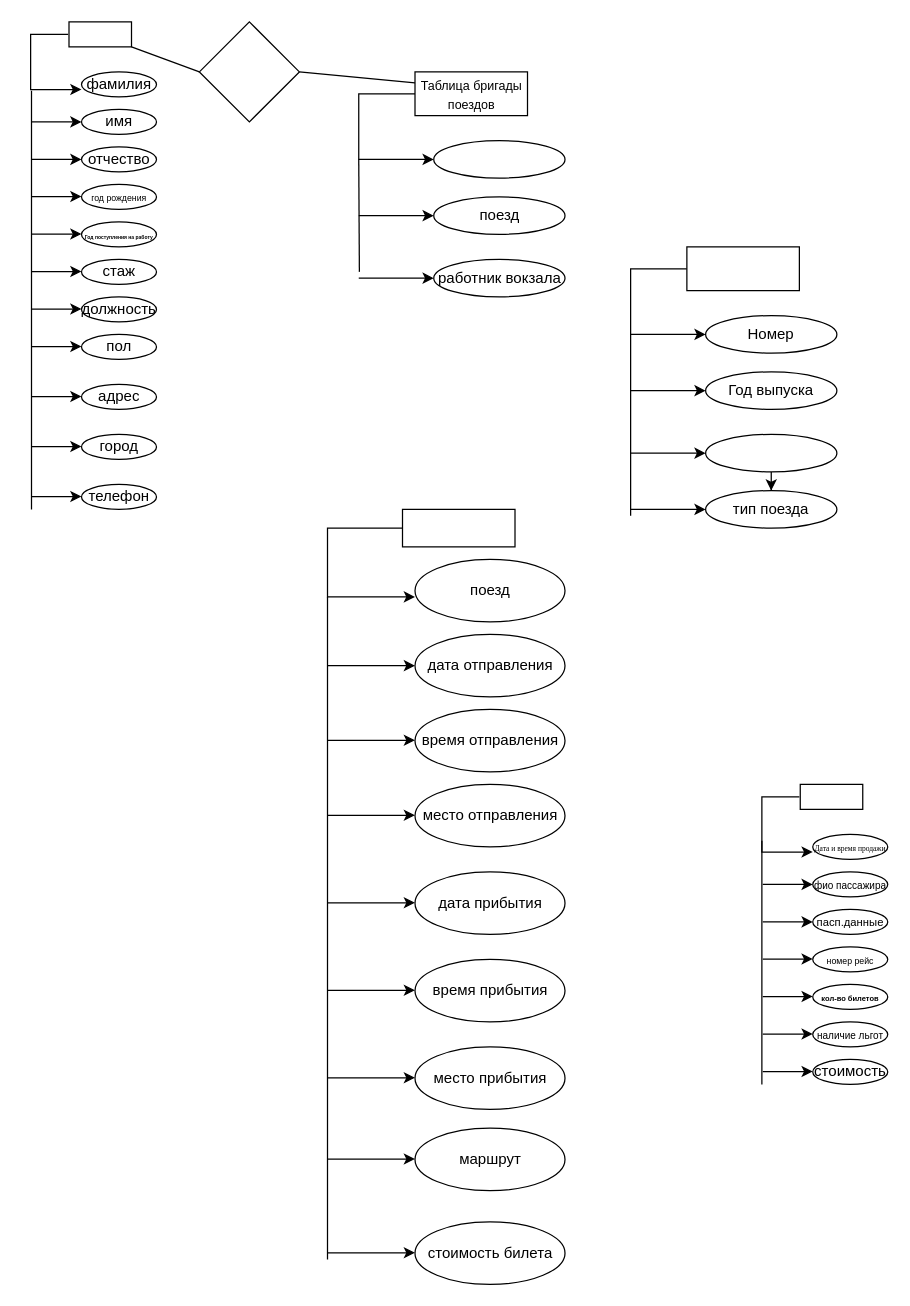
The diagram is 910 pixels wide and 1306 high, and some of its shapes have lost their labels. Here are the shapes that lost their labels. From the top down, the box of each, then its label:
(68, 21, 132, 47): работники жд вокзала
(198, 21, 299, 122): кто в бригаде
(432, 139, 565, 178): Номер бригады
(686, 246, 799, 291): Таблица поезда
(704, 433, 837, 472): кол-во вагонов
(401, 508, 515, 547): расписание движения поездов
(799, 783, 863, 809): ведомость продаж билетов
